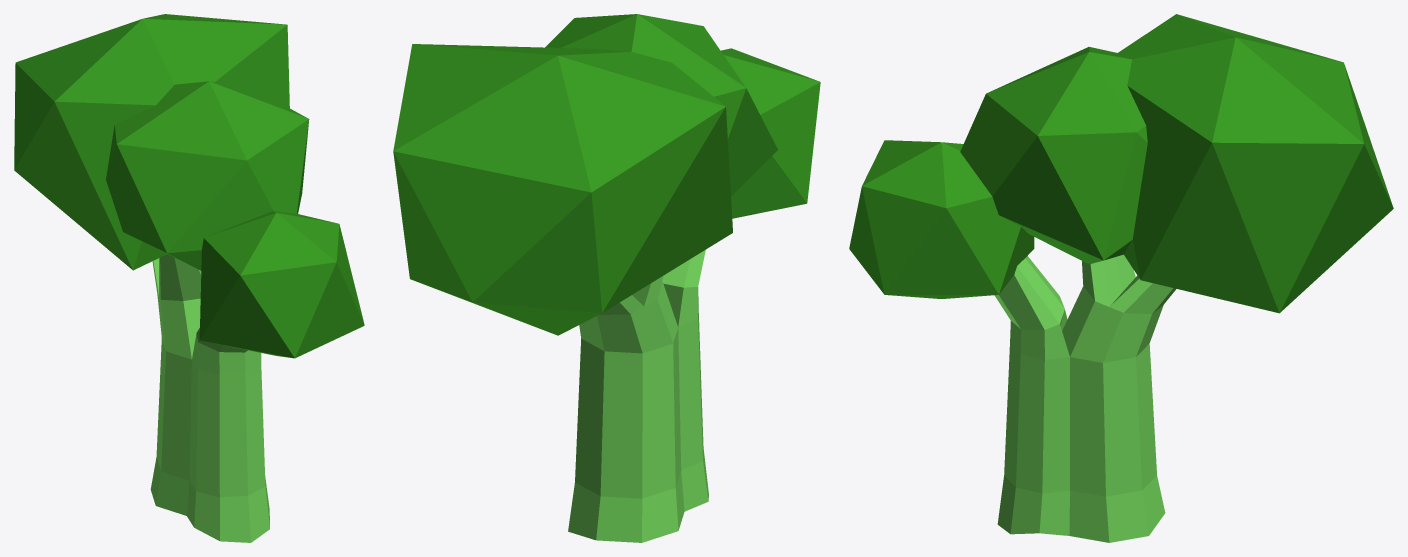
Rendered from broccoli.fbx.
3 renders of one model, left to right at view 1: azimuth 30°, elevation 25°; view 2: azimuth 150°, elevation 25°; view 3: azimuth 270°, elevation 25°, orthographic. The views are drawn at different scales.
Parts seen in each view (by area): view 1: Cylinder.046, Cylinder.047; view 2: Cylinder.046, Cylinder.047; view 3: Cylinder.046, Cylinder.047.
Boxes of the visible parts, <box> form: Cylinder.046: <box>14,14,364,358</box>; Cylinder.047: <box>150,254,269,542</box>; Cylinder.046: <box>393,14,820,335</box>; Cylinder.047: <box>568,249,708,542</box>; Cylinder.046: <box>849,14,1393,313</box>; Cylinder.047: <box>994,254,1176,542</box>.
Size of the model in its own units: 10.45 by 17.81 by 18.03.
